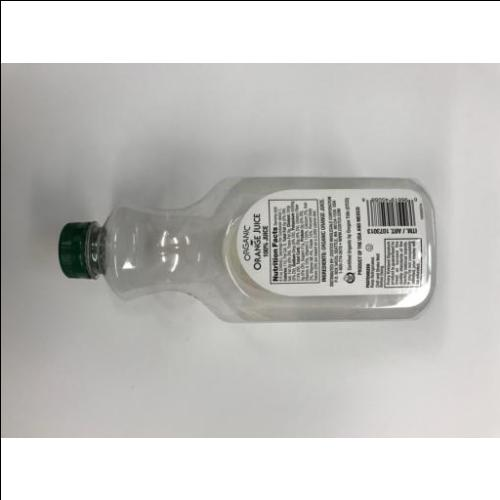plastic: (58, 177, 437, 324)
